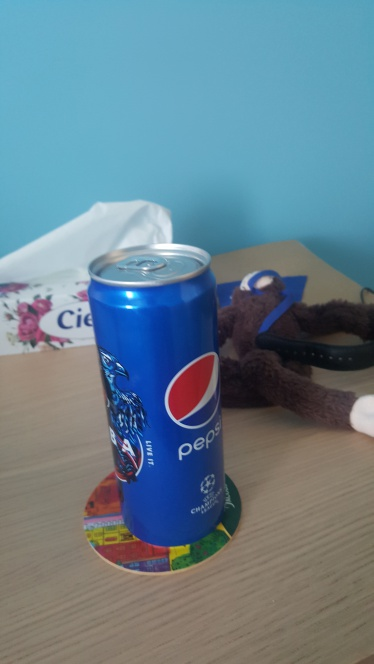pepsi: (86, 236, 243, 555)
